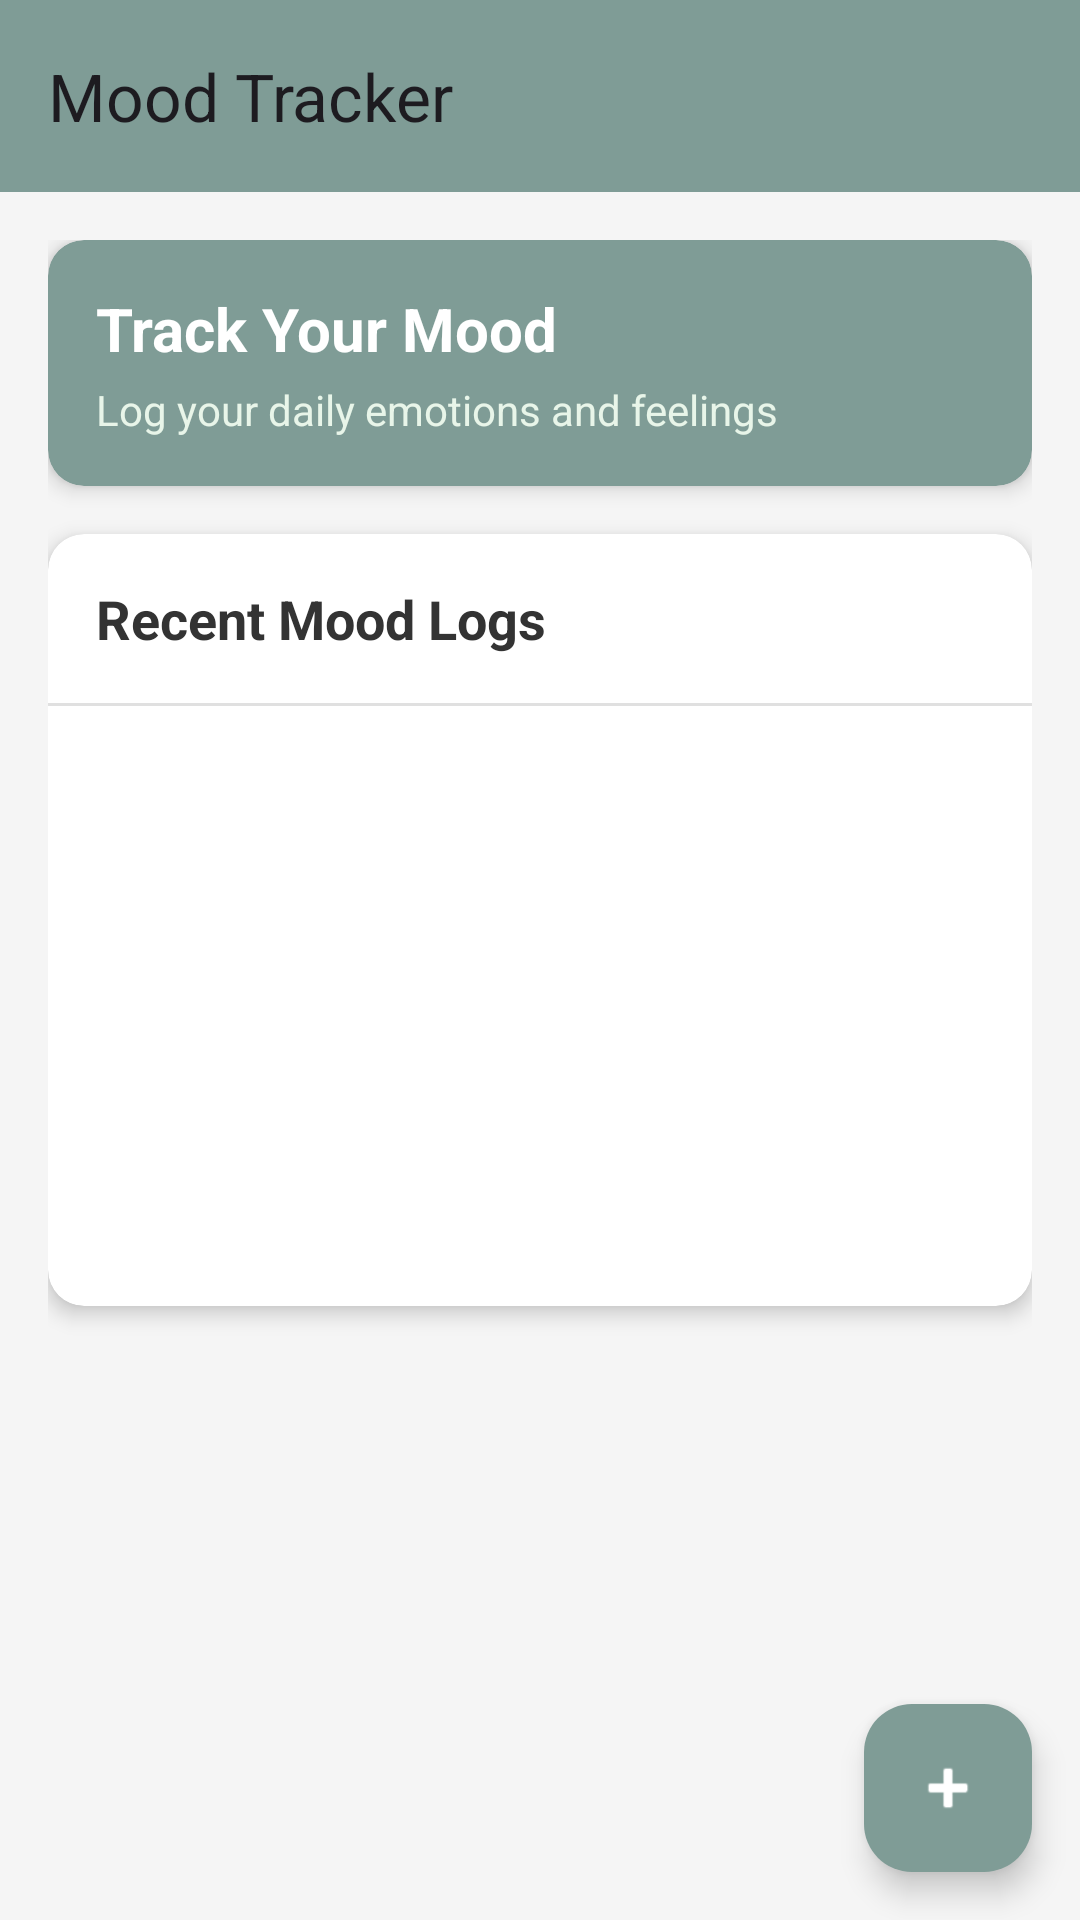

Where to tap for icons on this 1080px x 1920px app screen, as point (x, y):
Add Mood: point (948, 1788)
